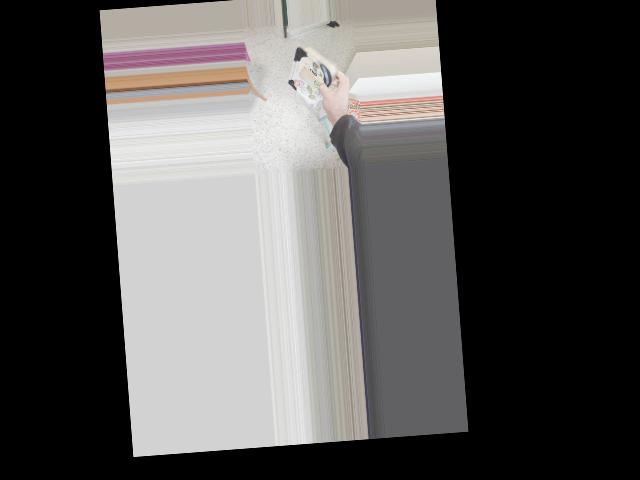cheese: (278, 42, 355, 103)
